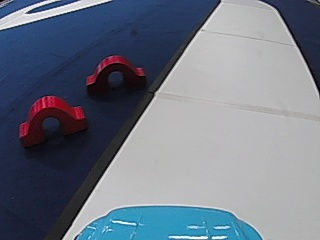bridge: (15, 91, 89, 146), (82, 50, 146, 97)
